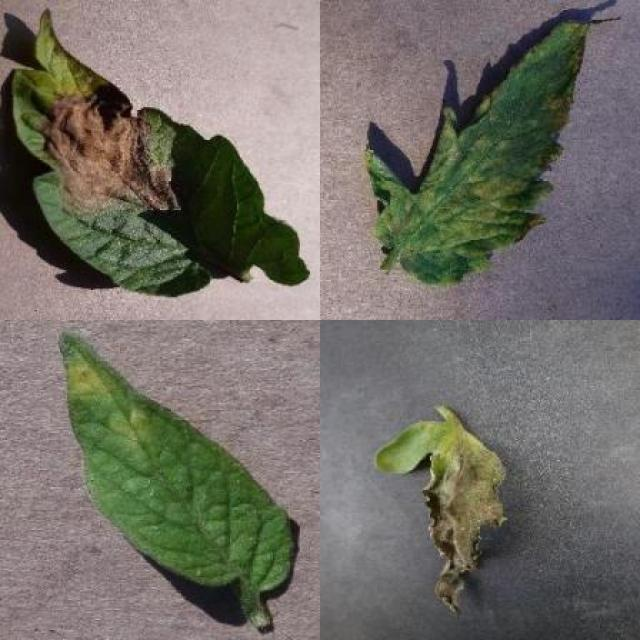Late Blight: (11, 7, 310, 300), (376, 420, 509, 620)
Leaf Mold: (58, 332, 295, 595), (364, 14, 590, 287)
